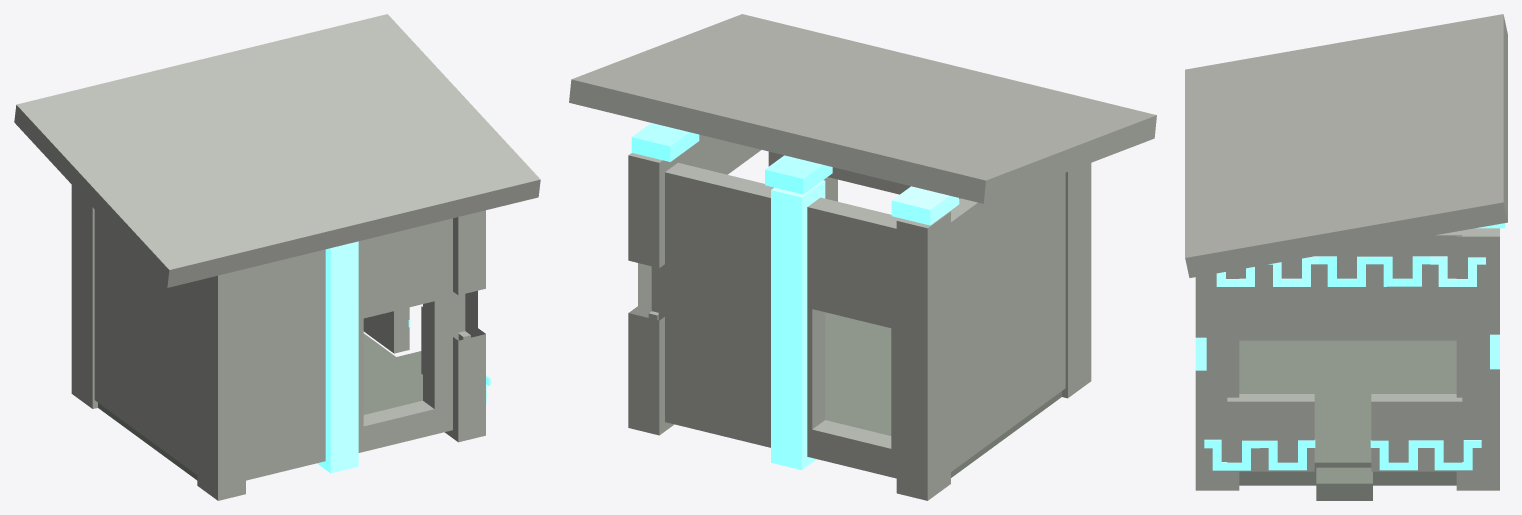
Rendered from space house 4.fbx.
3 renders of one model, left to right at view 1: azimuth 30°, elevation 25°; view 2: azimuth 150°, elevation 25°; view 3: azimuth 270°, elevation 25°, orthographic. The views are drawn at different scales.
Visible parts, largest first — view 1: Cube.049, Cube.053, Cube.054, Cube.044, Cube.043, Cube.042, Cube.045, Cube.048, Cube.056; view 2: Cube.049, Cube.055, Cube.054, Cube.045, Cube.046, Cube.047, Cube.048, Cube.044, Cube.057, Cube.052, Cube.051, Cube.050 (+1 smaller); view 3: Cube.049, Cube.048, Cube.056, Cube.047, Cube.057, Cube.054, Cube.042, Cube.059, Cube.090, Cube.058, Cube.043, Cube.055.
Part boxes in pixels (box(x1,y1,x2,y2)): Cube.049: box(14, 14, 540, 287); Cube.053: box(246, 218, 458, 480); Cube.054: box(94, 210, 197, 474); Cube.044: box(197, 269, 245, 500); Cube.043: box(317, 241, 358, 473); Cube.042: box(444, 210, 485, 442); Cube.045: box(71, 185, 97, 408); Cube.048: box(98, 333, 422, 480); Cube.056: box(363, 306, 470, 374); Cube.049: box(569, 14, 1156, 203); Cube.055: box(658, 162, 899, 478); Cube.054: box(951, 172, 1065, 471); Cube.045: box(896, 211, 950, 500); Cube.046: box(771, 180, 825, 470); Cube.047: box(628, 153, 682, 435); Cube.048: box(825, 312, 1061, 477); Cube.044: box(1062, 163, 1091, 398); Cube.057: box(683, 134, 761, 174); Cube.052: box(891, 186, 959, 225); Cube.051: box(631, 123, 699, 161); Cube.050: box(765, 155, 832, 194); Cube.049: box(1185, 14, 1507, 277); Cube.048: box(1239, 340, 1456, 485); Cube.056: box(1227, 394, 1462, 471); Cube.047: box(1456, 228, 1499, 490); Cube.057: box(1239, 230, 1462, 305); Cube.054: box(1239, 305, 1456, 340); Cube.042: box(1195, 269, 1239, 490); Cube.059: box(1216, 256, 1485, 286); Cube.090: box(1204, 439, 1481, 470); Cube.058: box(1316, 467, 1372, 500); Cube.043: box(1195, 337, 1206, 370); Cube.055: box(1482, 334, 1489, 383).
Size of the model in its own units: 1569 by 1216 by 1135.
